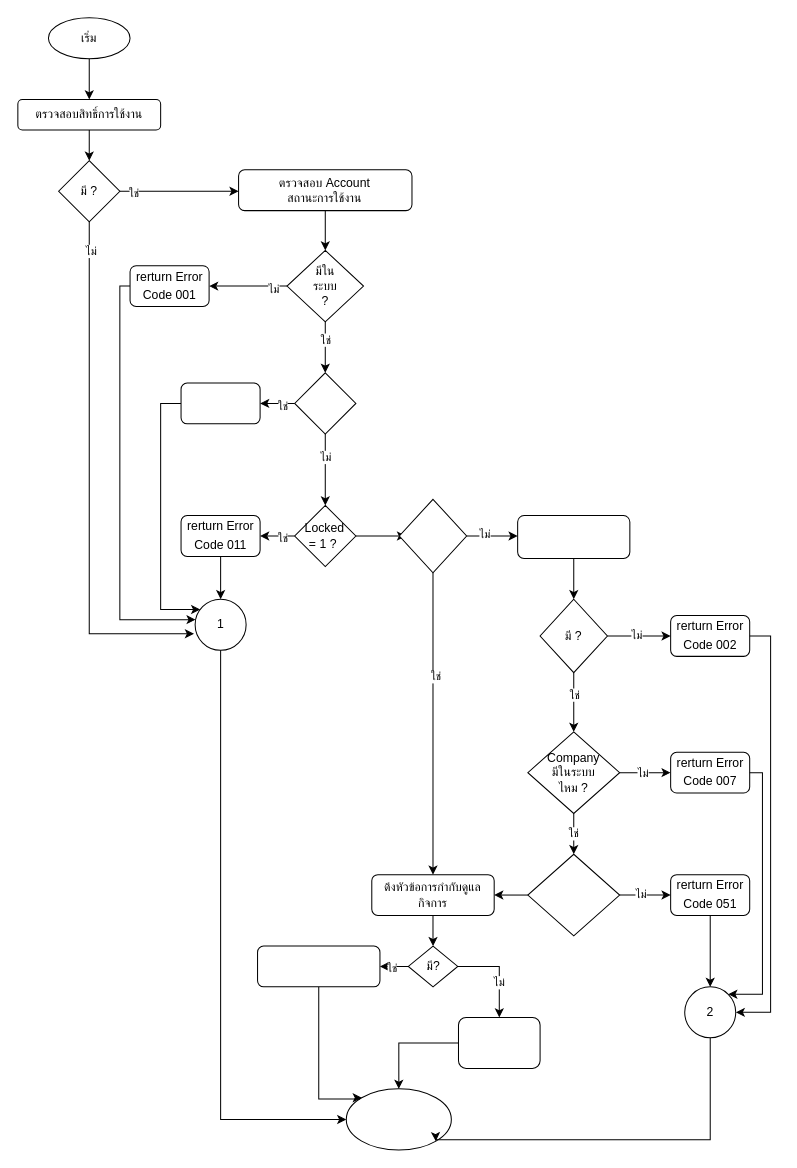
Some shapes in this 797 by 1168 pixel diagram are drawn without their labels. Each missing label, with the box of its shape:
Company Active ?: (527, 853, 620, 936)
rerturn Error Code 004: (180, 382, 260, 424)
return Error code 123: (457, 1016, 540, 1068)
status = 1 ?: (294, 372, 356, 434)
Super Admin ?: (398, 498, 467, 573)
ตรวจสอบสิทธิ์การใช้งาน Company นี้ไหม: (517, 515, 630, 558)
สิ้นสุด: (345, 1088, 451, 1150)
ส่งกลับหัวข้อการกำกับดูแลกิจการ: (257, 945, 380, 987)
